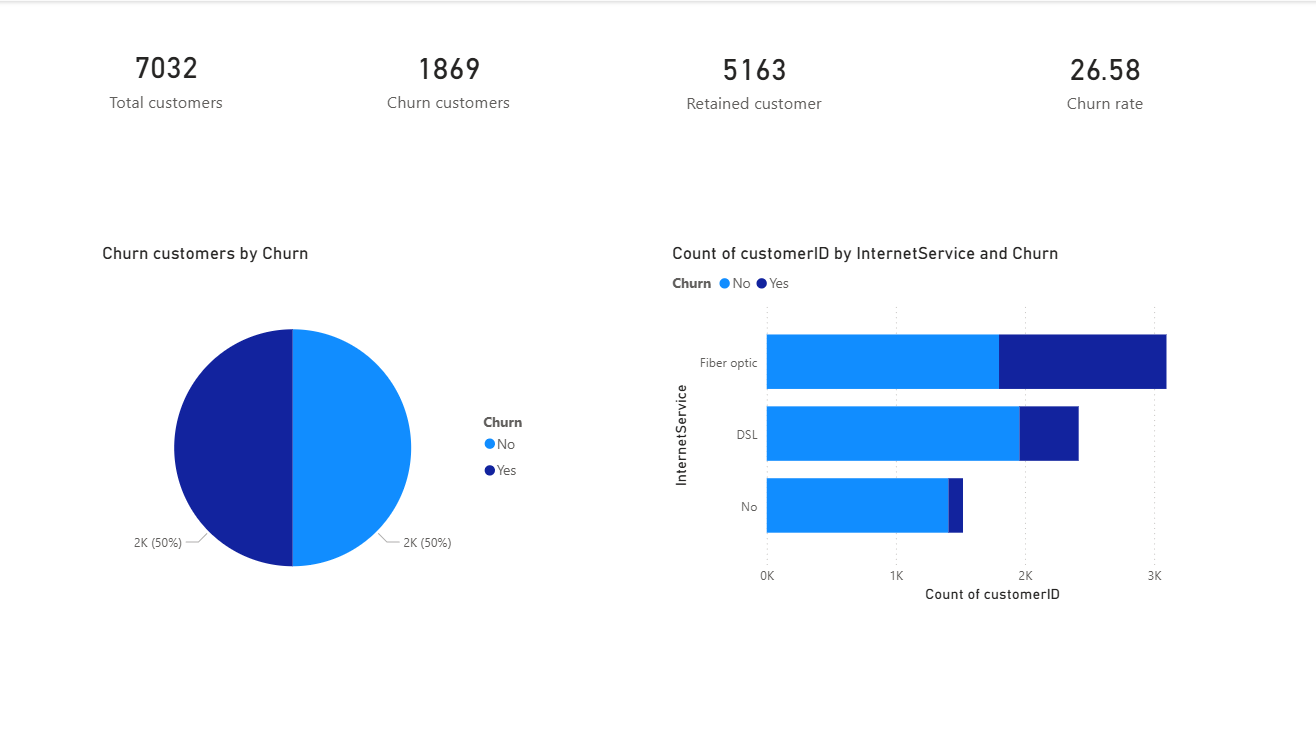

This screenshot's page, from the dashboard's own definition file:
{"tool":"powerbi","page":{"name":"Page 1","canvas":[1280,720],"ordinal":0},"visuals":[{"type":"card","fields":{"Values":["WA_Fn-UseC_-Telco-Customer-Churn-selected-columns.Total customers"]},"box":[58.4,27.2,206.2,92.4],"z":0},{"type":"card","fields":{"Values":["WA_Fn-UseC_-Telco-Customer-Churn-selected-columns.Churn customers"]},"box":[322.9,0,226.6,147.8],"z":1000},{"type":"card","fields":{"Values":["WA_Fn-UseC_-Telco-Customer-Churn-selected-columns.Retained customer"]},"box":[640,0,186.7,149.8],"z":2000},{"type":"card","fields":{"Values":["WA_Fn-UseC_-Telco-Customer-Churn-selected-columns.Churn rate"]},"box":[898.7,0,352.1,149.8],"z":3000},{"type":"pieChart","fields":{"Category":["WA_Fn-UseC_-Telco-Customer-Churn-selected-columns.Churn"],"Y":["WA_Fn-UseC_-Telco-Customer-Churn-selected-columns.Churn customers"]},"box":[94.3,235.4,438.7,379.3],"z":4000},{"type":"barChart","fields":{"Category":["WA_Fn-UseC_-Telco-Customer-Churn-selected-columns.InternetService"],"Y":["CountNonNull(WA_Fn-UseC_-Telco-Customer-Churn-selected-columns.customerID)"],"Series":["WA_Fn-UseC_-Telco-Customer-Churn-selected-columns.Churn"]},"box":[648.8,235.4,548.6,355],"z":5000}]}

Visuals, with their boxes in screenshot pixels (x1, y1, x2, y2), scaled from the page's 1280x720 canvas onto the 1316x739 screenshot:
card - WA_Fn-UseC_-Telco-Customer-Churn-selected-columns.Total customers: [60, 28, 272, 123]
card - WA_Fn-UseC_-Telco-Customer-Churn-selected-columns.Churn customers: [332, 0, 565, 152]
card - WA_Fn-UseC_-Telco-Customer-Churn-selected-columns.Retained customer: [658, 0, 850, 154]
card - WA_Fn-UseC_-Telco-Customer-Churn-selected-columns.Churn rate: [924, 0, 1286, 154]
pieChart - WA_Fn-UseC_-Telco-Customer-Churn-selected-columns.Churn x WA_Fn-UseC_-Telco-Customer-Churn-selected-columns.Churn customers: [97, 242, 548, 631]
barChart - WA_Fn-UseC_-Telco-Customer-Churn-selected-columns.InternetService x CountNonNull(WA_Fn-UseC_-Telco-Customer-Churn-selected-columns.customerID): [667, 242, 1231, 606]
